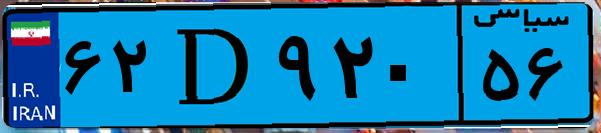0: (385, 28, 445, 110)
2: (330, 28, 385, 110), (110, 28, 158, 98)
5: (475, 38, 525, 113)
6: (57, 26, 110, 100), (525, 38, 570, 115)
9: (270, 28, 330, 110)
D: (158, 12, 270, 120)
